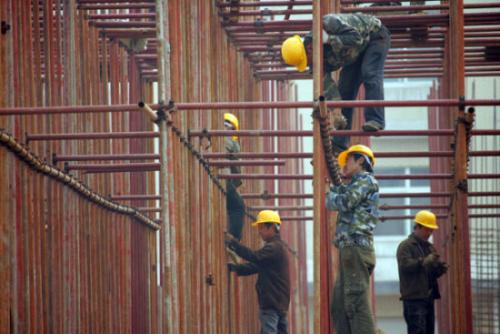boots: (362, 120, 384, 132), (333, 114, 348, 129)
gloves: (224, 232, 240, 250), (422, 252, 437, 265), (227, 262, 239, 272)
hard-hat: (281, 34, 308, 72), (336, 144, 375, 170), (251, 210, 282, 227), (414, 210, 439, 230)
person: (303, 10, 391, 145), (323, 144, 381, 334), (225, 208, 292, 333), (395, 209, 449, 333)
